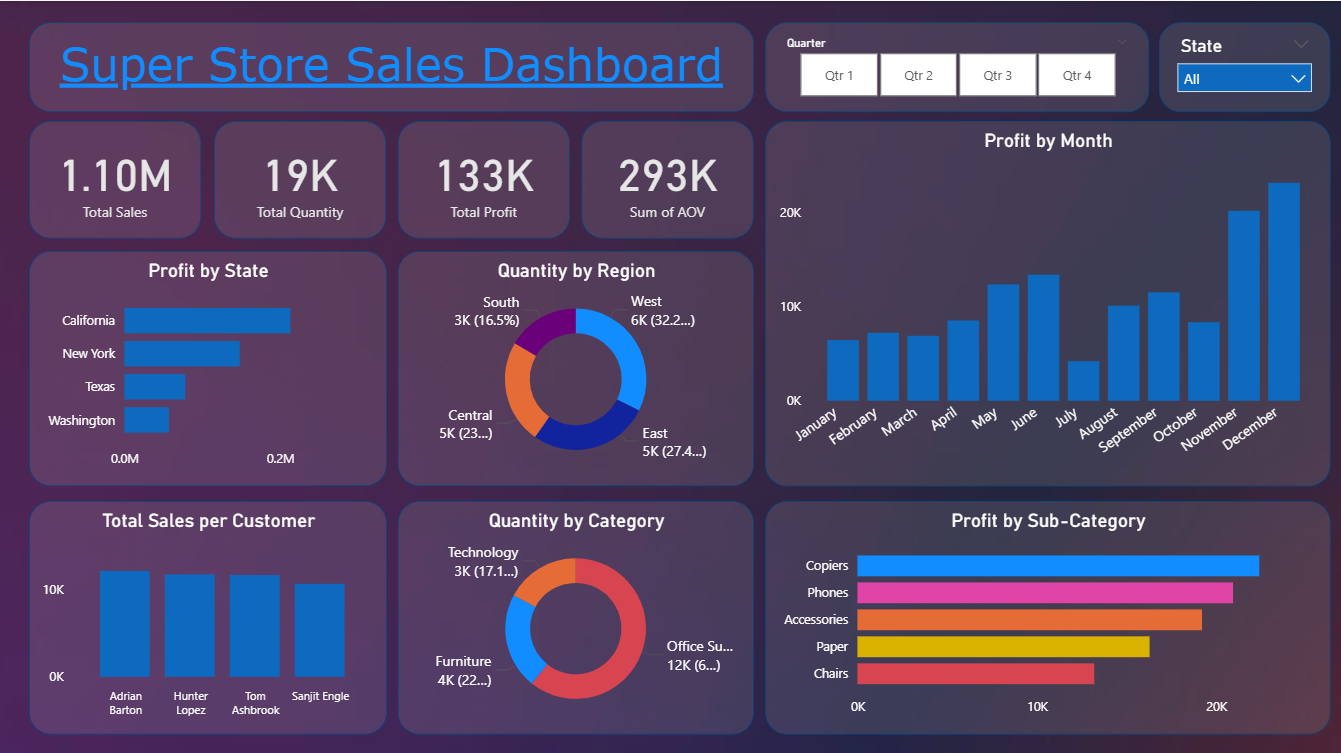

Layout of this report page (visuals, bound fields, positions):
{"tool":"powerbi","page":{"name":"Page 1","canvas":[1280,720],"ordinal":0},"visuals":[{"type":"textbox","box":[28.6,20.2,690.5,85.7],"z":0},{"type":"columnChart","title":"Profit by Month","fields":{"Y":["Sample - Superstore.Profit"],"Category":["Sample - Superstore.Order Date.Variation.Date Hierarchy.Month"]},"box":[729.8,114.3,538.1,347.6],"z":1000},{"type":"barChart","title":"Profit by Sub-Category","fields":{"Category":["Sample - Superstore.Sub-Category"],"Y":["Sample - Superstore.Profit"]},"box":[729.8,476.2,538.1,222.6],"z":2000},{"type":"donutChart","title":"Quantity by Category","fields":{"Category":["Sample - Superstore.Category"],"Y":["Sample - Superstore.Quantity"]},"box":[379.8,476.2,339.3,222.6],"z":3000},{"type":"donutChart","title":"Quantity by Region","fields":{"Y":["Sample - Superstore.Quantity"],"Category":["Sample - Superstore.Region"]},"box":[379.8,238.1,339.3,223.8],"z":4000},{"type":"card","fields":{"Values":["Sample - Superstore.Sales"]},"box":[28.6,114.3,164.3,111.9],"z":5000},{"type":"card","fields":{"Values":["Sample - Superstore.Quantity"]},"box":[204.8,114.3,164.3,111.9],"z":6000},{"type":"card","fields":{"Values":["Sample - Superstore.Profit"]},"box":[379.8,114.3,164.3,111.9],"z":7000},{"type":"card","fields":{"Values":["Sample - Superstore.AOV"]},"box":[554.8,114.3,164.3,111.9],"z":8000},{"type":"barChart","title":"Profit by State","fields":{"Category":["Sample - Superstore.State"],"Y":["Sample - Superstore.Sales"]},"box":[28.6,238.1,340.5,223.8],"z":9000},{"type":"columnChart","title":"Total Sales per Customer","fields":{"Category":["Sample - Superstore.Customer Name"],"Y":["Sample - Superstore.Sales"]},"box":[28.6,476.2,340.5,222.6],"z":10000},{"type":"slicer","fields":{"Values":["Sample - Superstore.Order Date.Variation.Date Hierarchy.Quarter"]},"box":[729.8,20.2,365.5,85.7],"z":11000},{"type":"slicer","fields":{"Values":["Sample - Superstore.State"]},"box":[1104.8,20.2,163.1,85.7],"z":12000}]}

Visuals, with their boxes in screenshot pixels (x1, y1, x2, y2), scaled from the page's 1280x720 canvas onto the 1341x753 screenshot:
textbox: l=30, t=21, r=753, b=111
"Profit by Month" columnChart: l=765, t=120, r=1328, b=483
"Profit by Sub-Category" barChart: l=765, t=498, r=1328, b=731
"Quantity by Category" donutChart: l=398, t=498, r=753, b=731
"Quantity by Region" donutChart: l=398, t=249, r=753, b=483
card - Sample - Superstore.Sales: l=30, t=120, r=202, b=237
card - Sample - Superstore.Quantity: l=215, t=120, r=387, b=237
card - Sample - Superstore.Profit: l=398, t=120, r=570, b=237
card - Sample - Superstore.AOV: l=581, t=120, r=753, b=237
"Profit by State" barChart: l=30, t=249, r=387, b=483
"Total Sales per Customer" columnChart: l=30, t=498, r=387, b=731
slicer - Sample - Superstore.Order Date.Variation.Date Hierarchy.Quarter: l=765, t=21, r=1147, b=111
slicer - Sample - Superstore.State: l=1157, t=21, r=1328, b=111
